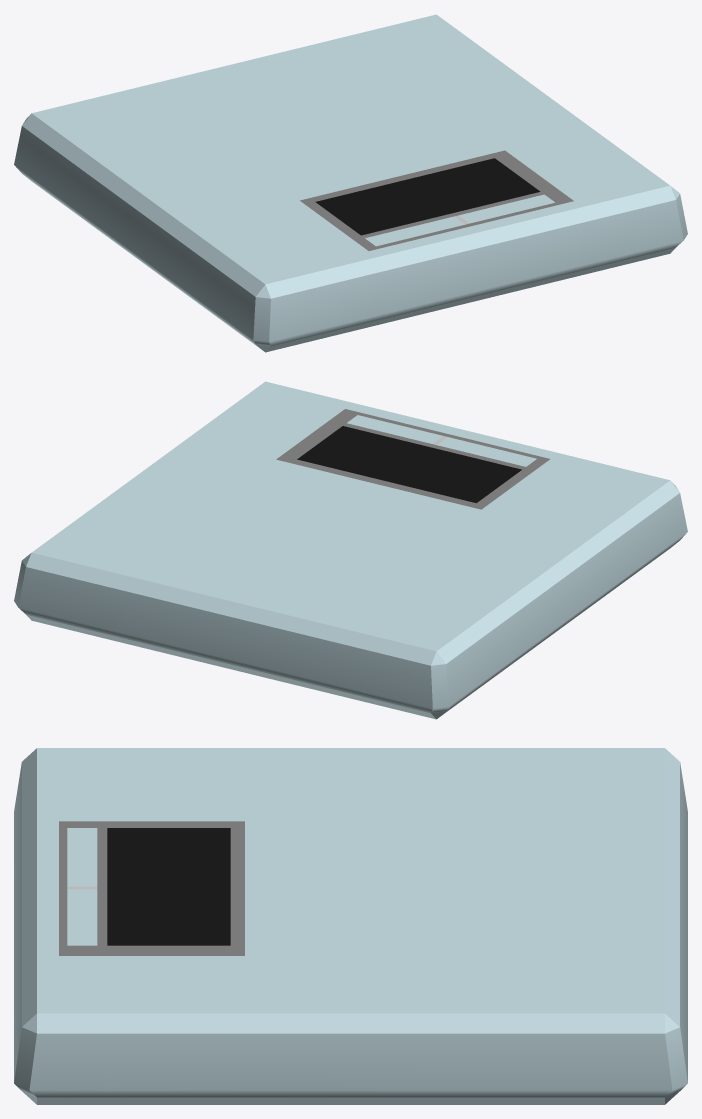
The model's file is scale.fbx.
The picture shows the model from 3 angles, top to bottom: view 1: azimuth 30°, elevation 25°; view 2: azimuth 150°, elevation 25°; view 3: azimuth 270°, elevation 25°; orthographic projection. The views are drawn at different scales.
Parts seen in each view (by area): view 1: pCube1; view 2: pCube1; view 3: pCube1.
Boxes of the visible parts, x1,y1,x2,y2 form: pCube1: (14,14,687,352); pCube1: (14,381,687,719); pCube1: (14,748,687,1104).
Bounding box in the file's own units: 1.02 × 0.1533 × 1.02.
